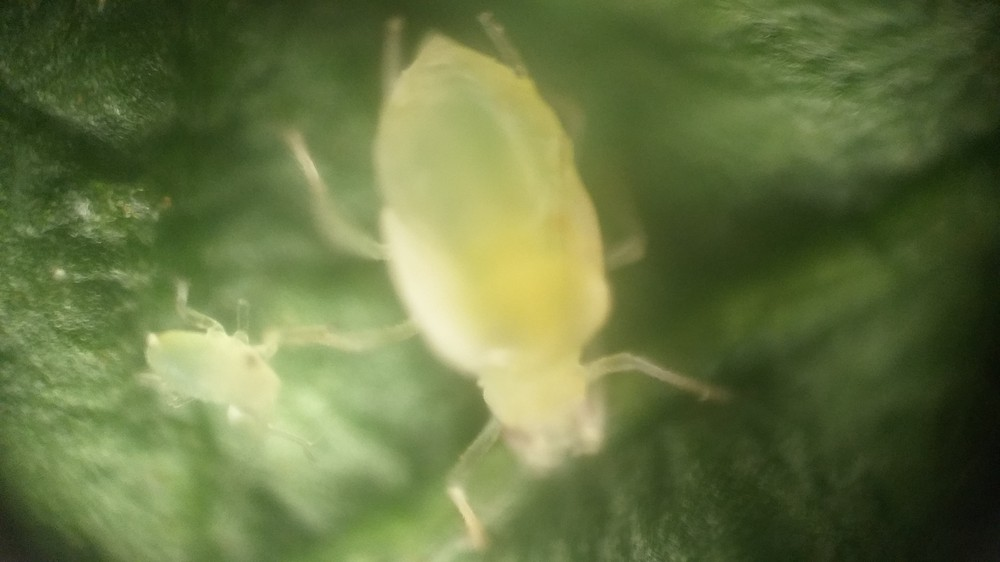Pulgon: (271, 13, 795, 553)
